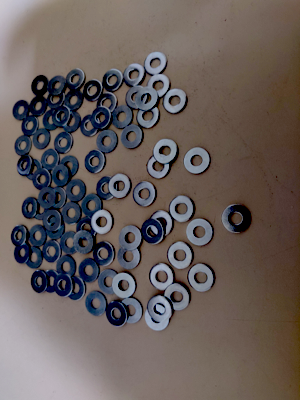circle: (222, 205, 251, 233), (187, 219, 215, 246), (184, 147, 211, 175), (164, 283, 191, 311), (189, 264, 215, 292), (168, 241, 193, 269), (145, 304, 170, 331), (150, 264, 175, 290), (133, 181, 157, 208), (153, 139, 178, 164), (147, 154, 172, 179), (163, 89, 188, 114), (170, 196, 194, 222), (112, 273, 136, 299), (108, 174, 132, 199), (119, 226, 143, 251), (118, 245, 142, 270), (120, 298, 143, 324), (148, 296, 172, 320), (141, 219, 164, 244), (91, 210, 114, 235), (98, 270, 121, 295), (93, 241, 116, 266), (85, 292, 108, 317), (106, 301, 128, 327), (151, 212, 173, 238), (145, 51, 168, 75), (136, 87, 159, 111), (137, 104, 159, 129), (96, 177, 119, 200), (122, 125, 144, 149), (126, 86, 148, 110), (77, 216, 99, 240), (147, 75, 170, 97), (124, 64, 146, 87), (85, 150, 106, 174), (82, 194, 103, 218), (79, 259, 100, 283), (66, 179, 87, 203), (66, 276, 87, 300), (97, 130, 118, 153), (80, 114, 101, 137), (103, 69, 123, 93), (83, 79, 103, 103), (60, 231, 80, 255), (54, 273, 74, 297), (42, 270, 61, 295), (112, 106, 133, 128), (97, 93, 118, 115), (91, 107, 111, 130), (74, 231, 94, 254), (47, 187, 67, 210), (62, 202, 82, 225), (52, 164, 71, 188), (57, 255, 76, 279), (66, 68, 86, 90), (33, 168, 53, 190), (40, 149, 60, 171), (25, 159, 44, 182), (43, 209, 62, 232), (43, 240, 62, 263), (64, 90, 84, 111), (62, 112, 82, 133), (46, 87, 65, 109), (31, 75, 50, 97), (32, 199, 51, 221), (54, 132, 73, 154), (60, 155, 79, 177), (39, 186, 57, 209), (52, 106, 71, 127), (48, 76, 67, 97), (43, 109, 61, 131), (12, 100, 30, 122), (33, 128, 51, 150), (29, 225, 47, 247), (31, 270, 48, 293), (11, 225, 28, 247), (14, 243, 31, 265), (26, 247, 43, 269), (22, 197, 38, 220), (21, 116, 39, 136), (30, 95, 47, 116), (15, 135, 32, 156), (17, 156, 34, 177)
